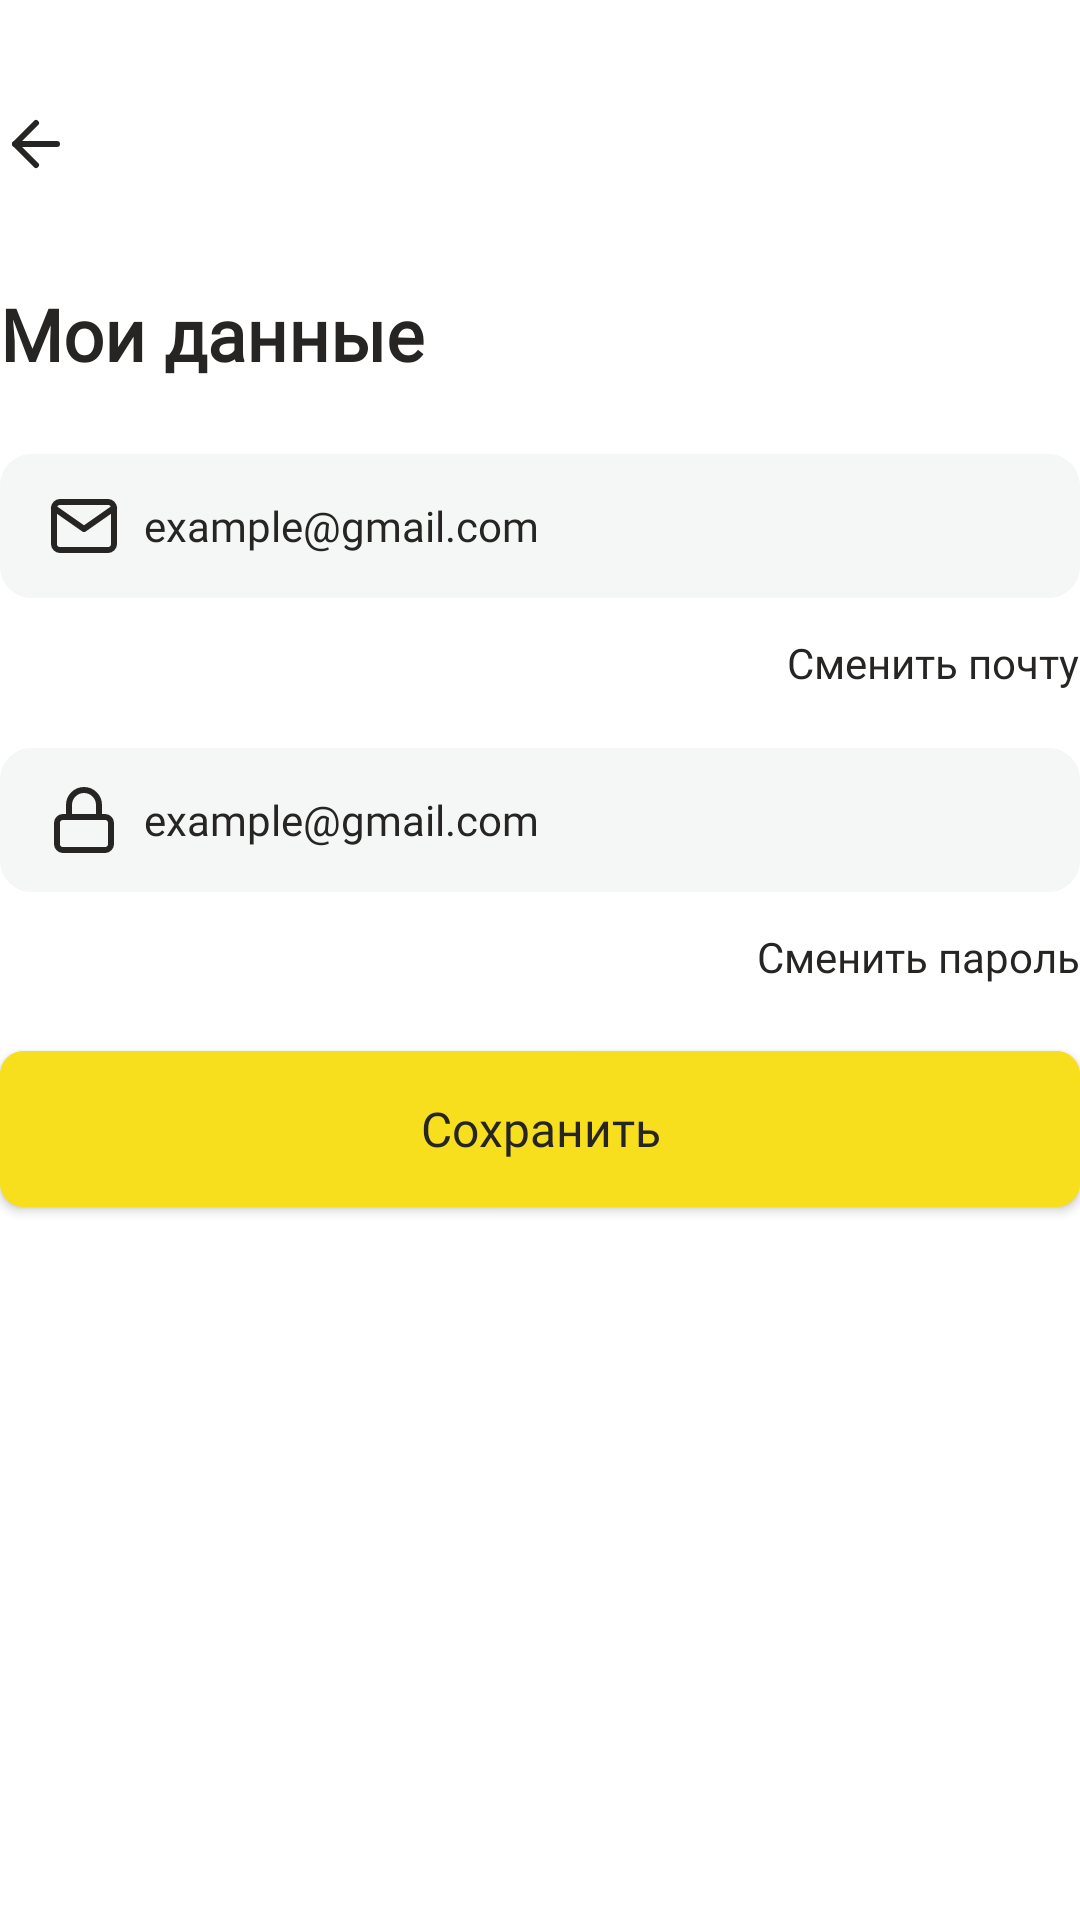

Named icons in this screenshot (1080*1920) and their centers, [x,y]:
back arrow: [36,144]
